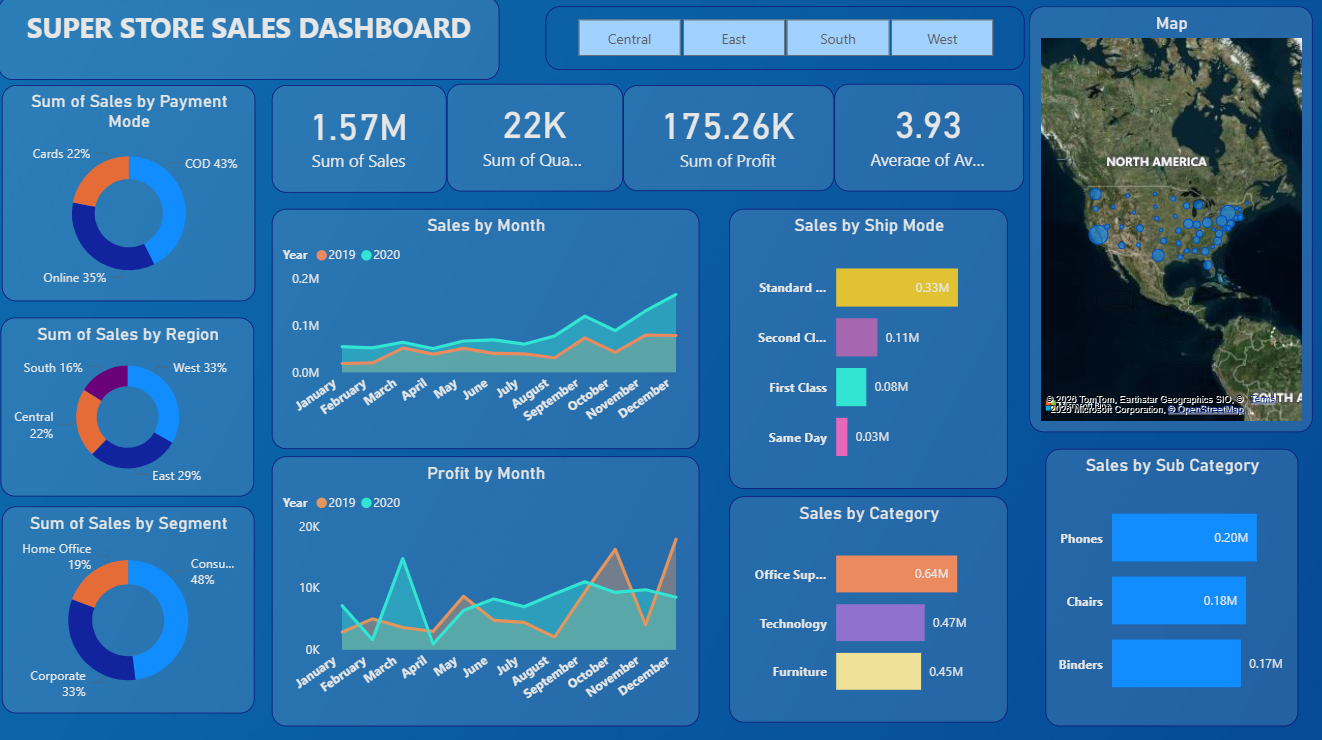

Layout of this report page (visuals, bound fields, positions):
{"tool":"powerbi","page":{"name":"Page 1","canvas":[1280,720],"ordinal":0},"visuals":[{"type":"clusteredBarChart","title":"Sales by Category","fields":{"Category":["SuperStore_Sales_Dataset.Category"],"Y":["Sum(SuperStore_Sales_Dataset.Sales)"]},"box":[705.8,483.8,269,218.4],"z":0},{"type":"clusteredBarChart","title":"Sales by Sub Category","fields":{"Category":["SuperStore_Sales_Dataset.Sub-Category"],"Y":["Sum(SuperStore_Sales_Dataset.Sales)"]},"box":[1011,437.9,243.7,267.8],"z":1000},{"type":"clusteredBarChart","title":"Sales by Ship Mode","fields":{"Category":["SuperStore_Sales_Dataset.Ship Mode"],"Y":["Sum(SuperStore_Sales_Dataset.Sales)"]},"box":[705.8,206.3,269,270.2],"z":2000},{"type":"areaChart","title":"Sales by Month","fields":{"Category":["SuperStore_Sales_Dataset.Order Date.Variation.Date Hierarchy.Month","SuperStore_Sales_Dataset.Order Date.Variation.Date Hierarchy.Day"],"Y":["Sum(SuperStore_Sales_Dataset.Sales)"],"Series":["SuperStore_Sales_Dataset.Order Date.Variation.Date Hierarchy.Year"]},"box":[264.2,206.3,412.6,231.6],"z":3000},{"type":"areaChart","title":"Profit by Month","fields":{"Category":["SuperStore_Sales_Dataset.Order Date.Variation.Date Hierarchy.Month","SuperStore_Sales_Dataset.Order Date.Variation.Date Hierarchy.Day"],"Series":["SuperStore_Sales_Dataset.Order Date.Variation.Date Hierarchy.Year"],"Y":["Sum(SuperStore_Sales_Dataset.Profit)"]},"box":[264.2,445.2,412.6,260.6],"z":4000},{"type":"map","title":"Map","fields":{"Category":["SuperStore_Sales_Dataset.State"],"Size":["Sum(SuperStore_Sales_Dataset.Sales)"]},"box":[995.3,10.9,273.9,411.4],"z":5000},{"type":"donutChart","fields":{"Category":["SuperStore_Sales_Dataset.Segment"],"Y":["Sum(SuperStore_Sales_Dataset.Sales)"]},"box":[3.6,493.4,243.7,200.3],"z":6000},{"type":"donutChart","fields":{"Category":["SuperStore_Sales_Dataset.Payment Mode"],"Y":["Sum(SuperStore_Sales_Dataset.Sales)"]},"box":[3.6,86.9,244.9,208.7],"z":7000},{"type":"slicer","fields":{"Values":["SuperStore_Sales_Dataset.Region"]},"box":[528.4,10.9,462.1,61.5],"z":8000},{"type":"textbox","box":[0,1.4,484.4,81],"z":9000},{"type":"cardVisual","fields":{"Data":["Sum(SuperStore_Sales_Dataset.Sales)"]},"box":[264.2,86.9,168.9,103.8],"z":10000},{"type":"cardVisual","fields":{"Data":["Sum(SuperStore_Sales_Dataset.Profit)"]},"box":[603.2,86.9,203.9,102.5],"z":11000},{"type":"cardVisual","fields":{"Data":["Sum(SuperStore_Sales_Dataset.Quantity)"]},"box":[433.1,85.7,170.1,103.8],"z":12000},{"type":"cardVisual","fields":{"Data":["Avg(SuperStore_Sales_Dataset.AvgDelivery)"]},"box":[807.1,85.7,183.4,103.8],"z":13000},{"type":"donutChart","fields":{"Category":["SuperStore_Sales_Dataset.Region"],"Y":["Sum(SuperStore_Sales_Dataset.Sales)"]},"box":[2.4,311.3,244.9,172.5],"z":14000}]}

Visuals, with their boxes in screenshot pixels (x1, y1, x2, y2), scaled from the page's 1280x720 canvas onto the 1322x740 screenshot:
"Sales by Category" clusteredBarChart: (left=729, top=497, right=1007, bottom=722)
"Sales by Sub Category" clusteredBarChart: (left=1044, top=450, right=1296, bottom=725)
"Sales by Ship Mode" clusteredBarChart: (left=729, top=212, right=1007, bottom=490)
"Sales by Month" areaChart: (left=273, top=212, right=699, bottom=450)
"Profit by Month" areaChart: (left=273, top=458, right=699, bottom=725)
"Map" map: (left=1028, top=11, right=1311, bottom=434)
donutChart - SuperStore_Sales_Dataset.Segment x Sum(SuperStore_Sales_Dataset.Sales): (left=4, top=507, right=255, bottom=713)
donutChart - SuperStore_Sales_Dataset.Payment Mode x Sum(SuperStore_Sales_Dataset.Sales): (left=4, top=89, right=257, bottom=304)
slicer - SuperStore_Sales_Dataset.Region: (left=546, top=11, right=1023, bottom=74)
textbox: (left=0, top=1, right=500, bottom=85)
cardVisual - Sum(SuperStore_Sales_Dataset.Sales): (left=273, top=89, right=447, bottom=196)
cardVisual - Sum(SuperStore_Sales_Dataset.Profit): (left=623, top=89, right=834, bottom=195)
cardVisual - Sum(SuperStore_Sales_Dataset.Quantity): (left=447, top=88, right=623, bottom=195)
cardVisual - Avg(SuperStore_Sales_Dataset.AvgDelivery): (left=834, top=88, right=1023, bottom=195)
donutChart - SuperStore_Sales_Dataset.Region x Sum(SuperStore_Sales_Dataset.Sales): (left=2, top=320, right=255, bottom=497)
